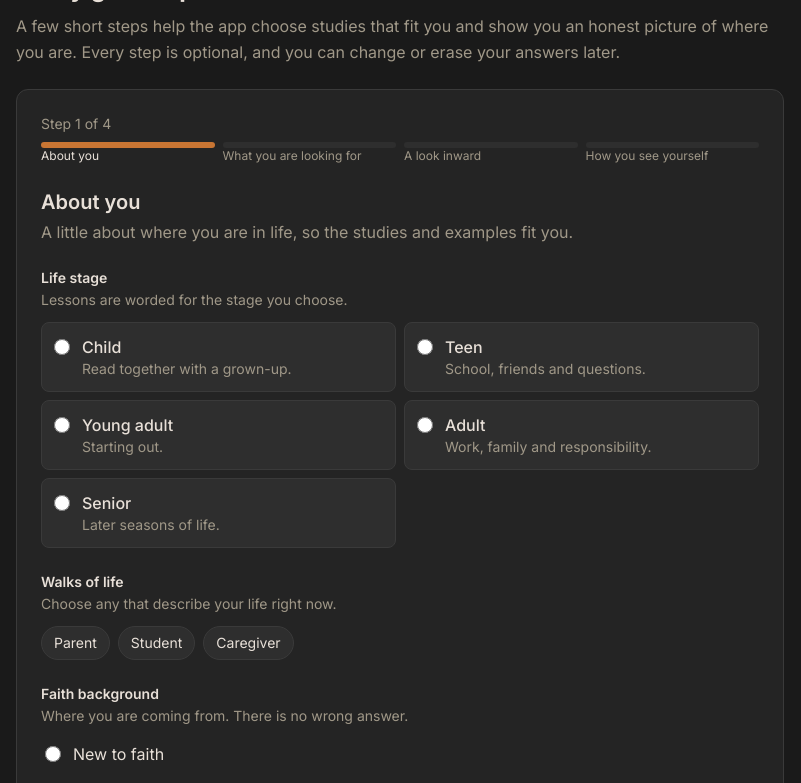
Test: ProfilePage first run › skips the inward steps for a child and says plainly why
Check: the heading "About you" is shown, box [41,190,140,214]
Click the radio button labelled "Child Read together with a grown-up.": x=62, y=347 [54,339,70,355]
(page scrolled)
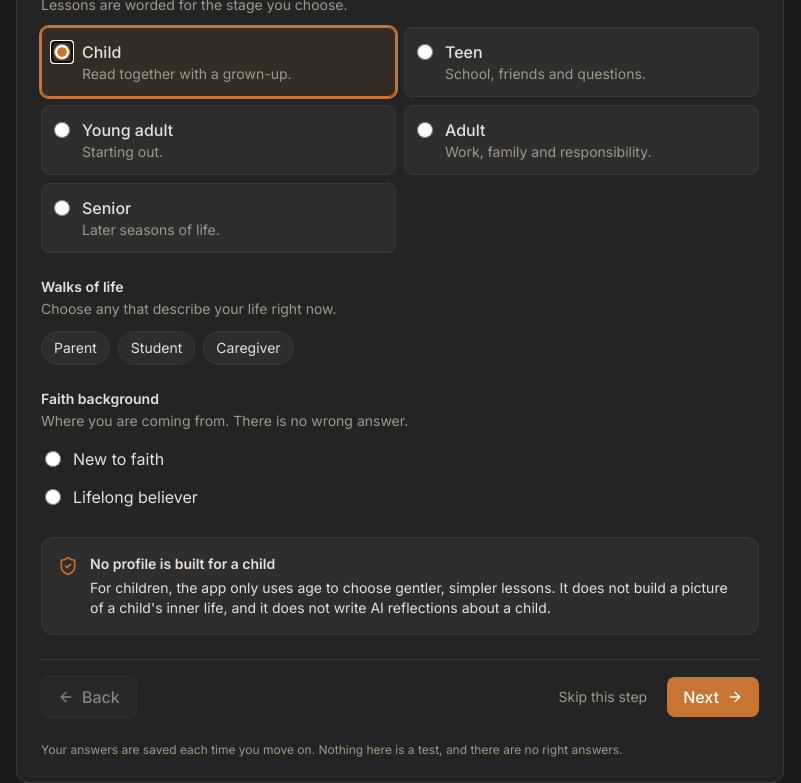
Click the button "Next": x=713, y=697 [667,677,759,717]
(page scrolled)
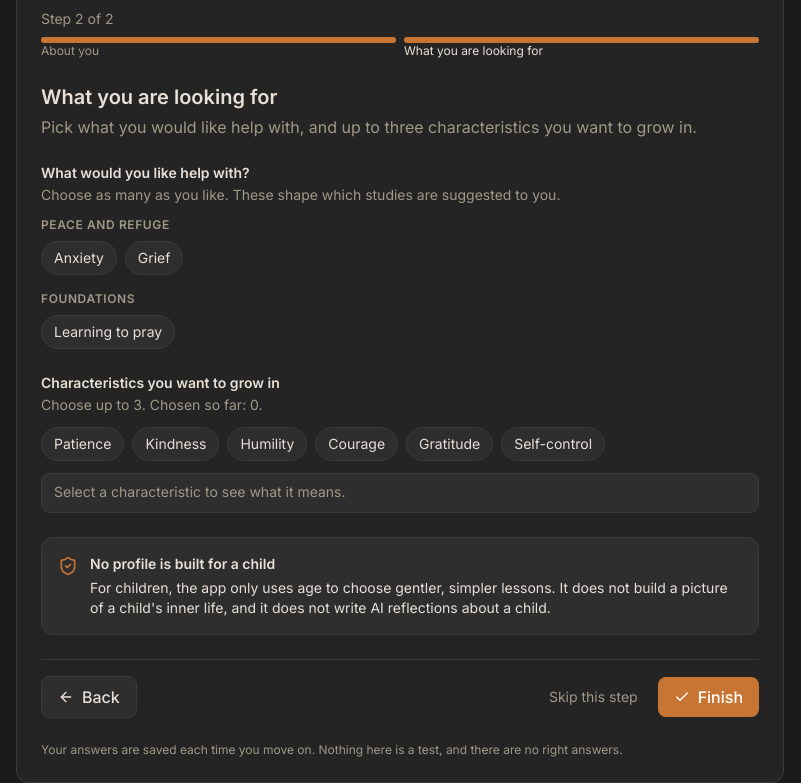
Check: the text "the app only uses age to choose gentler, simpler lessons" is shown, box [90,579,728,616]
Check: the heading "What you are looking for" is shown, box [41,85,277,109]
Check: the text "Step 2 of 2" is shown, box [41,10,114,27]
Note: The second step is the last one: no look inward, no self-rating.
Click the button "Finish": x=708, y=697 [658,677,759,717]
(page scrolled)
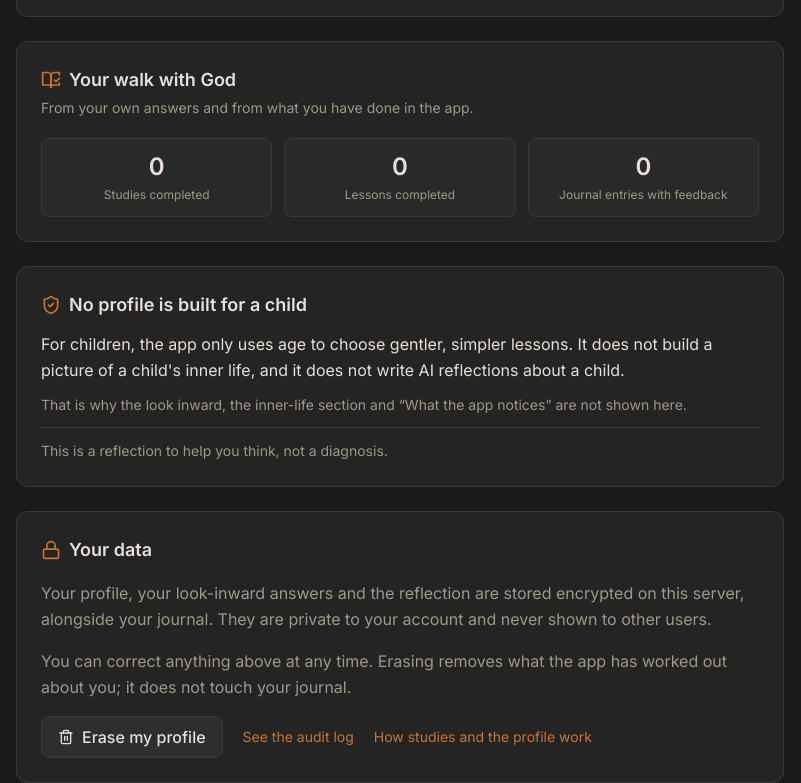
Check: the heading "No profile is built for a child" is shown, box [69,290,307,318]
Check: the text "This is a reflection to help you think, not a diagnosis." is shown, box [41,426,759,462]
